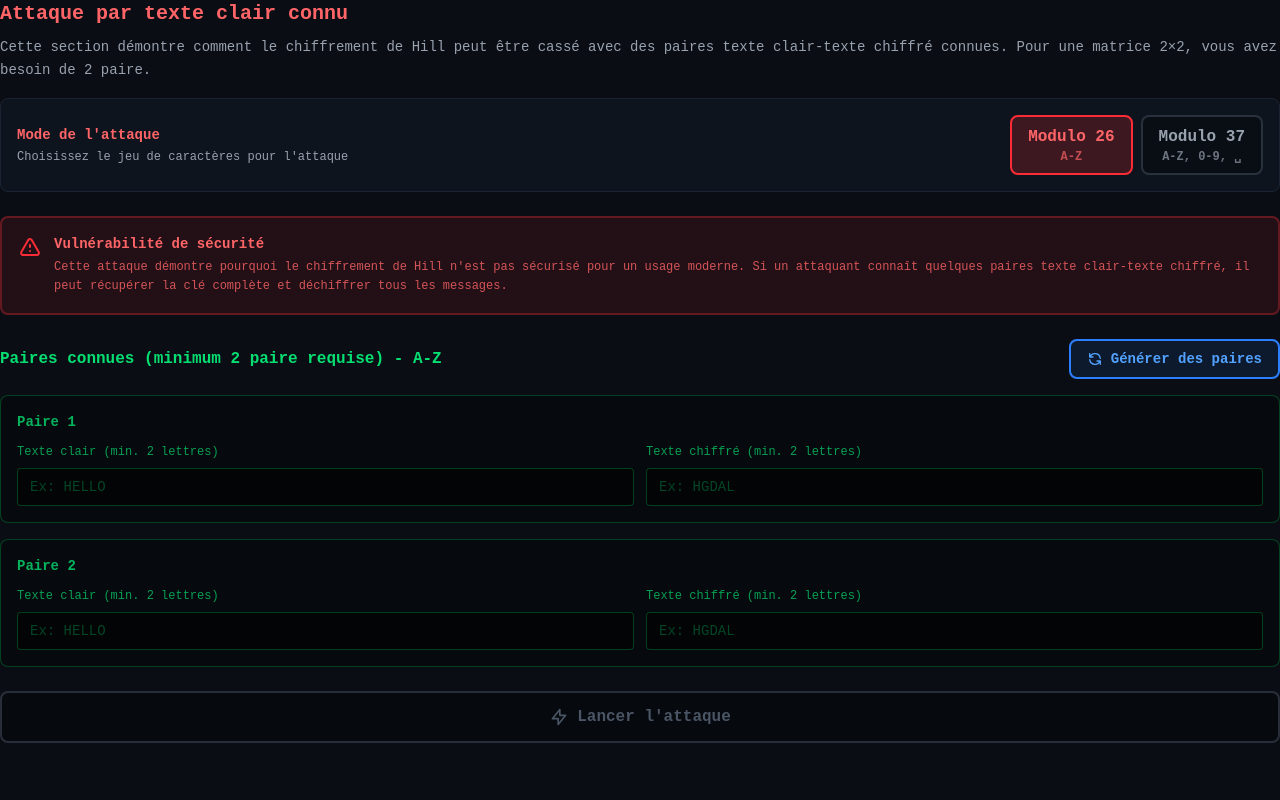
AttackSection › displays mathematical steps when attack succeeds
// Fill in pairs
Type "HE" into the 1st field with placeholder "Ex: HELLO" at [326, 486], box [17,468,634,506]
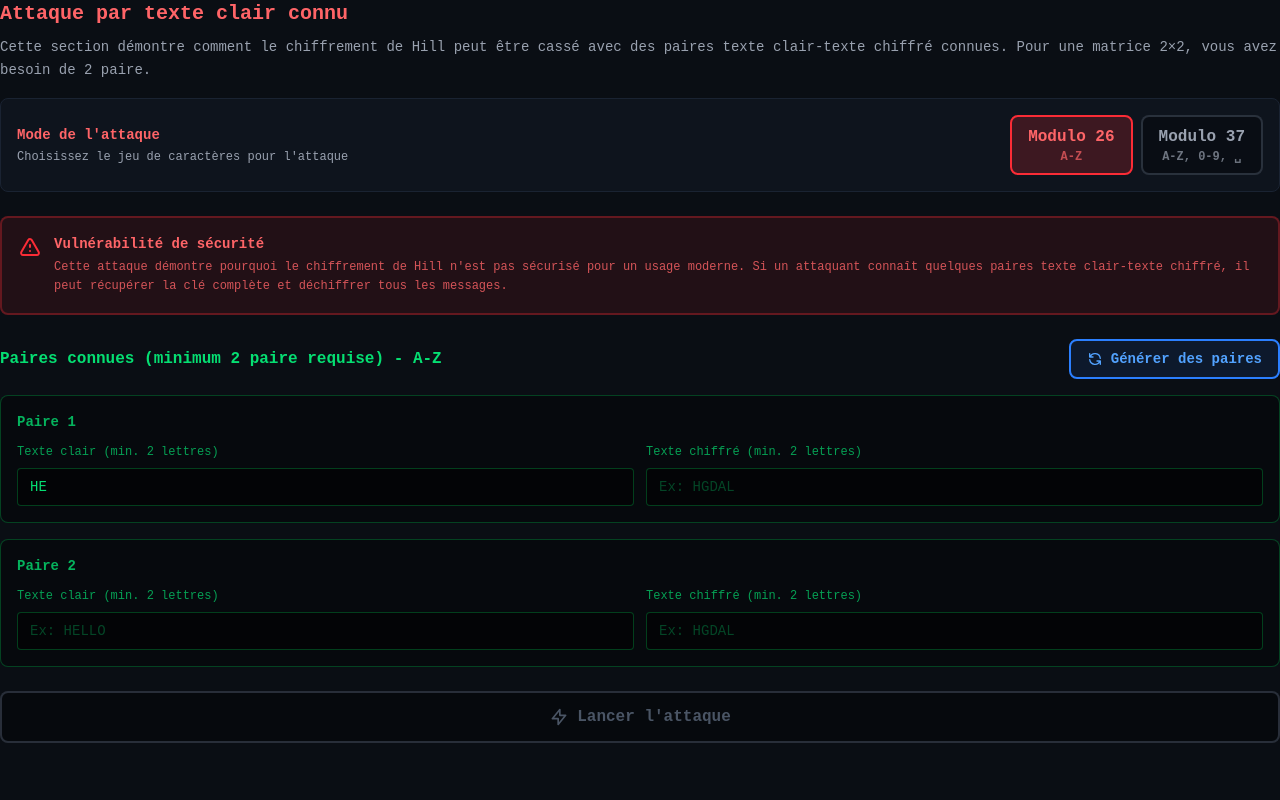
Type "AB" into the 1st field with placeholder "Ex: HGDAL" at [954, 486], box [646,468,1263,506]
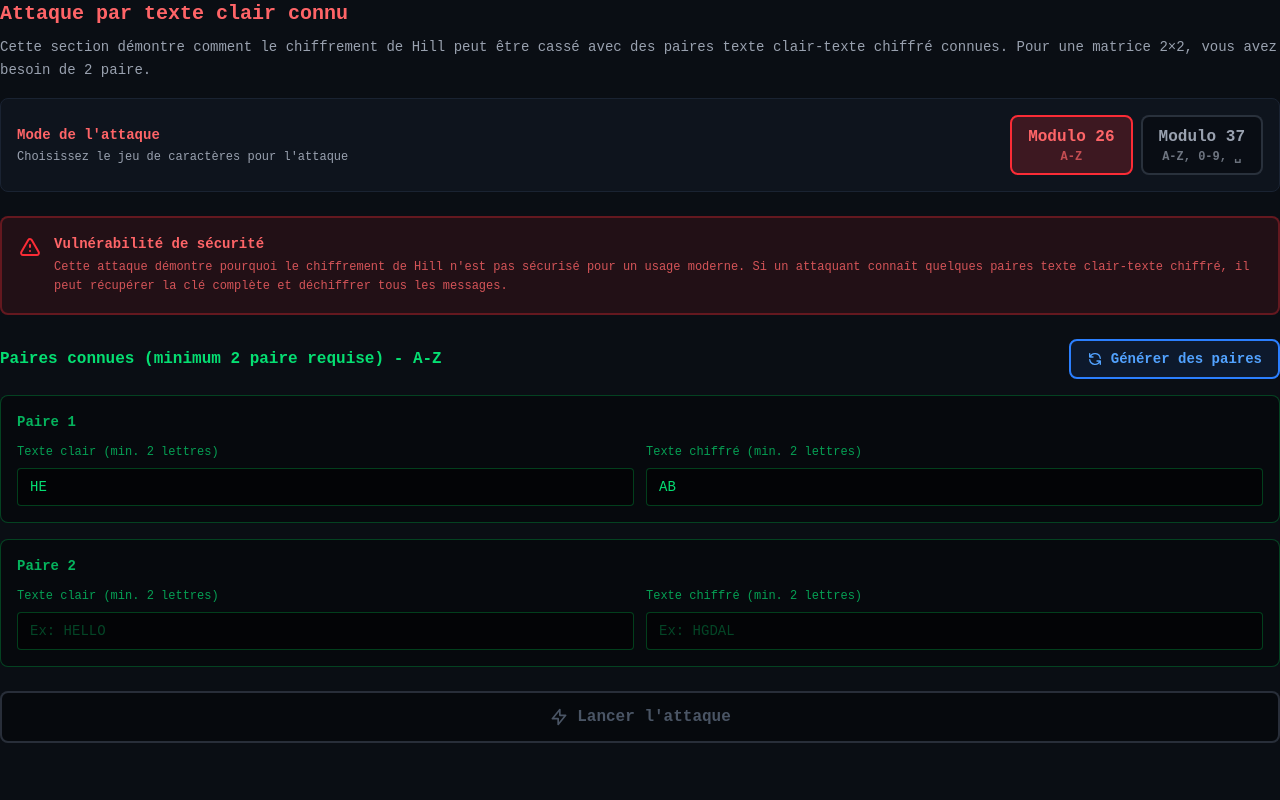
Type "LO" into the 2nd field with placeholder "Ex: HELLO" at [326, 630], box [17,612,634,650]
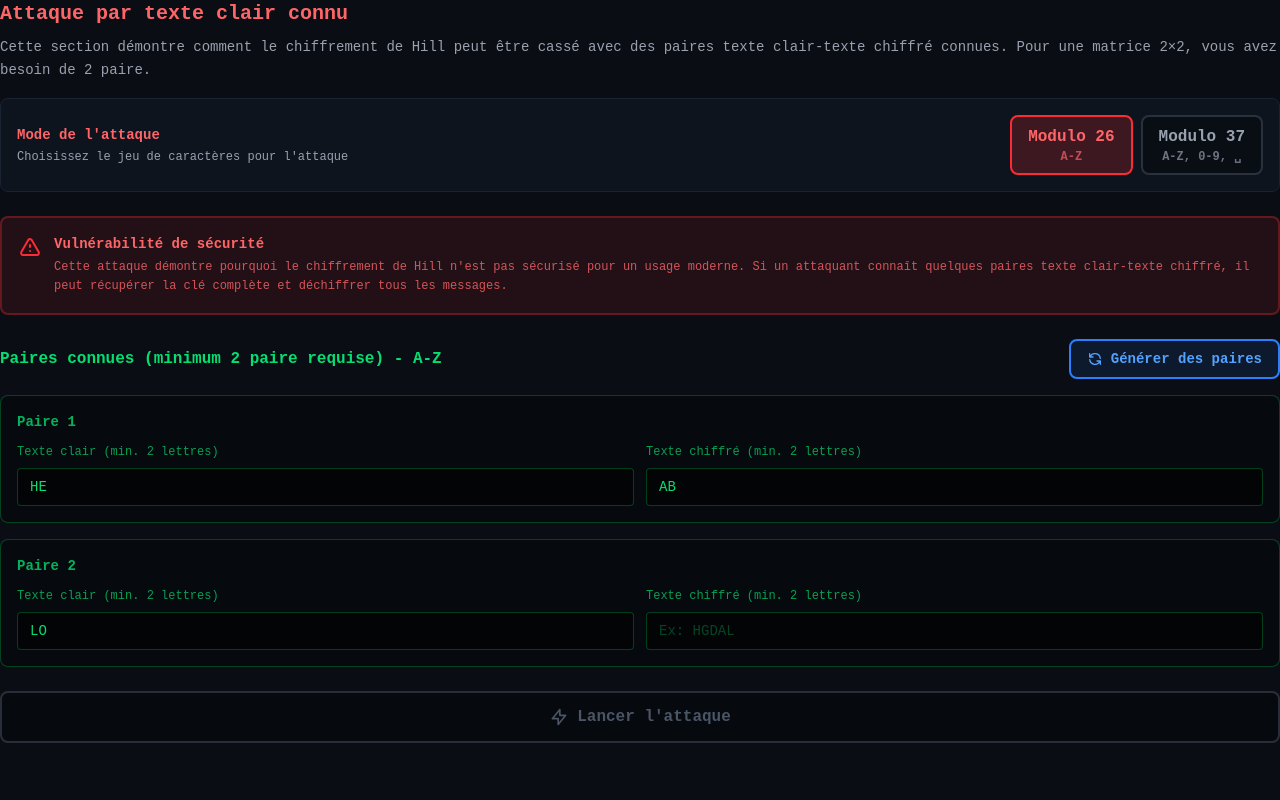
Type "CD" into the 2nd field with placeholder "Ex: HGDAL" at [954, 630], box [646,612,1263,650]
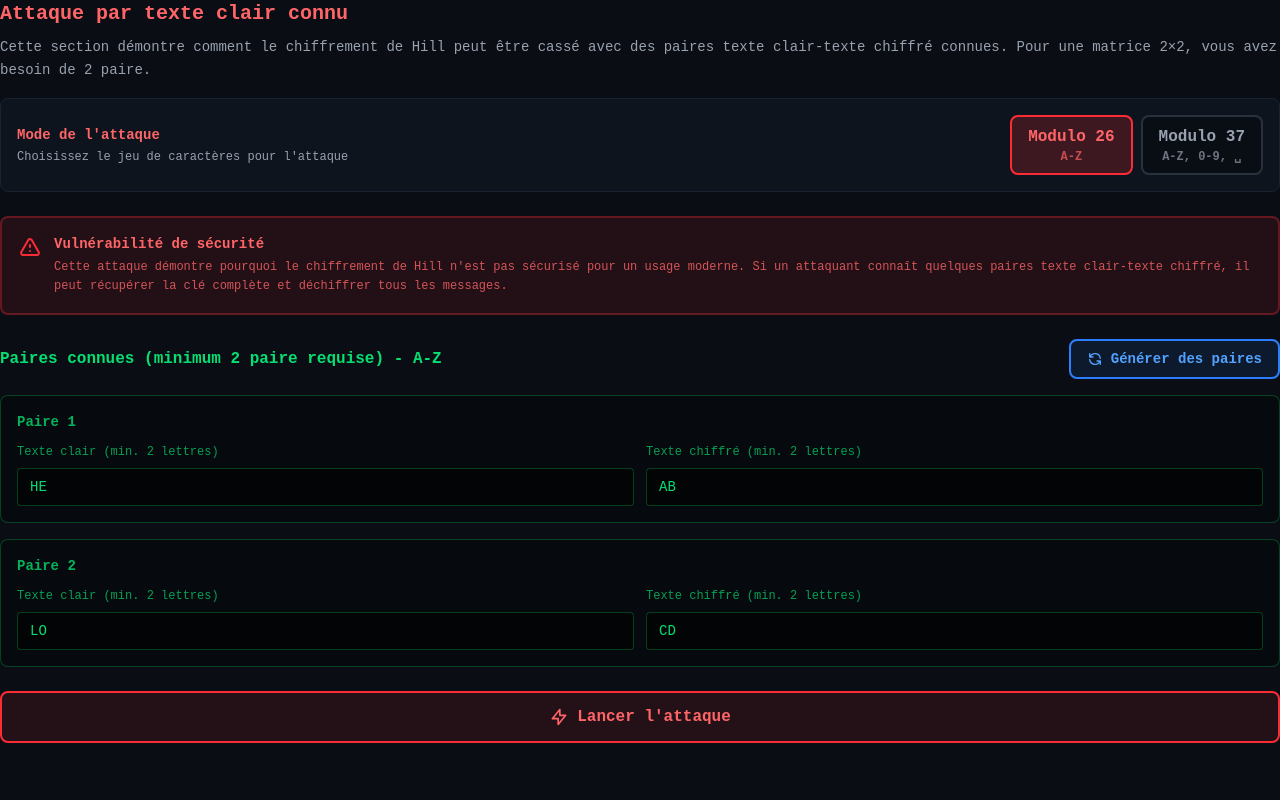
// Click attack button
Click the button "Lancer l'attaque" at [640, 716], box [0,690,1279,742]
(page scrolled)
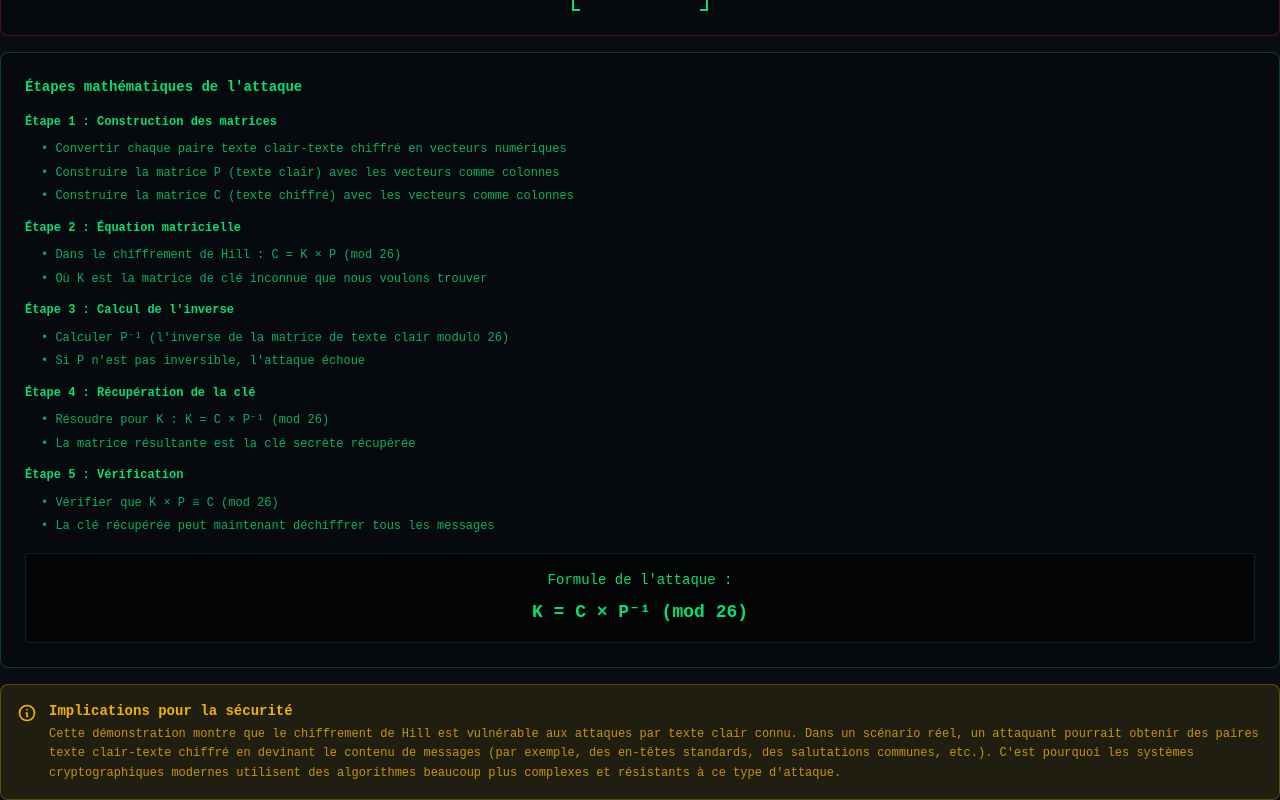
Result: the heading "Étapes mathématiques de l'attaque" is shown at [25,78,302,94]
Result: the text "Étape 1 : Construction des matrices" is shown at [25,114,277,128]
Result: the text "Étape 2 : Équation matricielle" is shown at [25,220,241,234]
